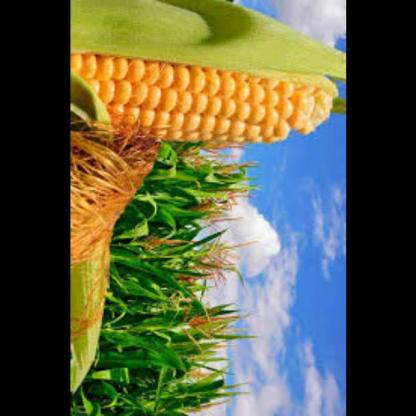corn: (71, 16, 342, 151)
